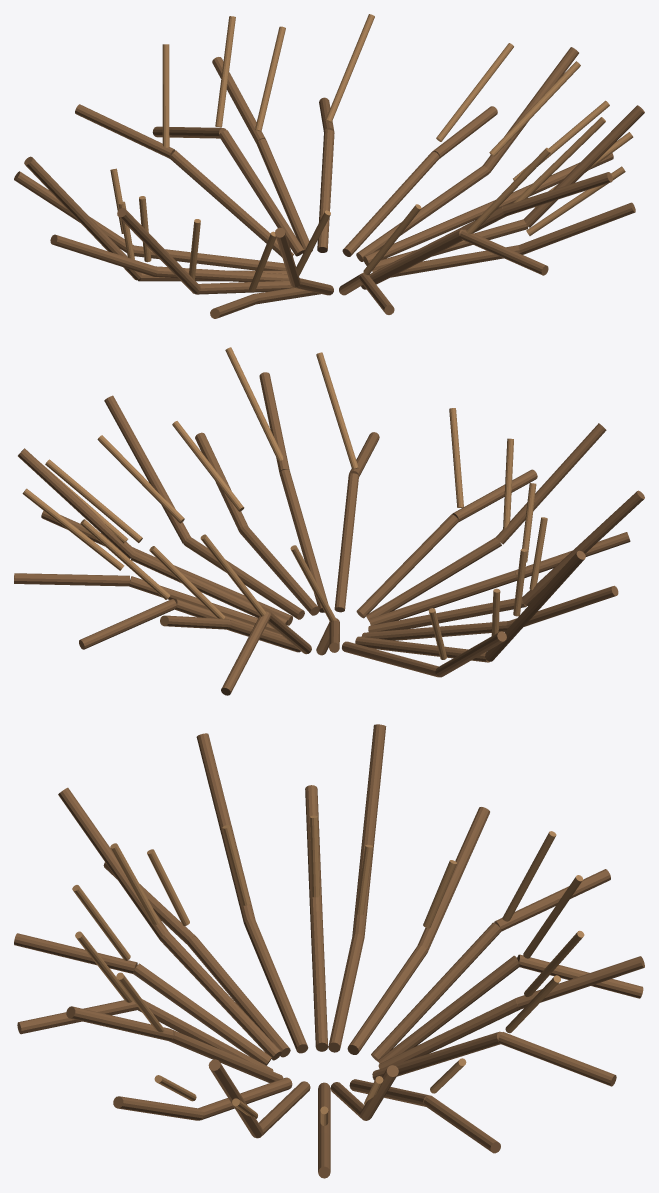
The model's file is YARD_Brush.glb.
3 renders of one model, top to bottom at view 1: azimuth 30°, elevation 25°; view 2: azimuth 150°, elevation 25°; view 3: azimuth 270°, elevation 25°, orthographic. The views are drawn at different scales.
Parts seen in each view (by area): view 1: Branches, Twigs; view 2: Branches, Twigs; view 3: Branches, Twigs.
Boxes of the visible parts, bbox=[...] form: Branches: bbox=[14, 47, 644, 318]; Twigs: bbox=[110, 14, 633, 291]; Branches: bbox=[14, 372, 644, 695]; Twigs: bbox=[22, 347, 547, 659]; Branches: bbox=[14, 724, 644, 1178]; Twigs: bbox=[72, 815, 584, 1125].
Size of the model in its own units: 1.71 by 0.51 by 1.42.
